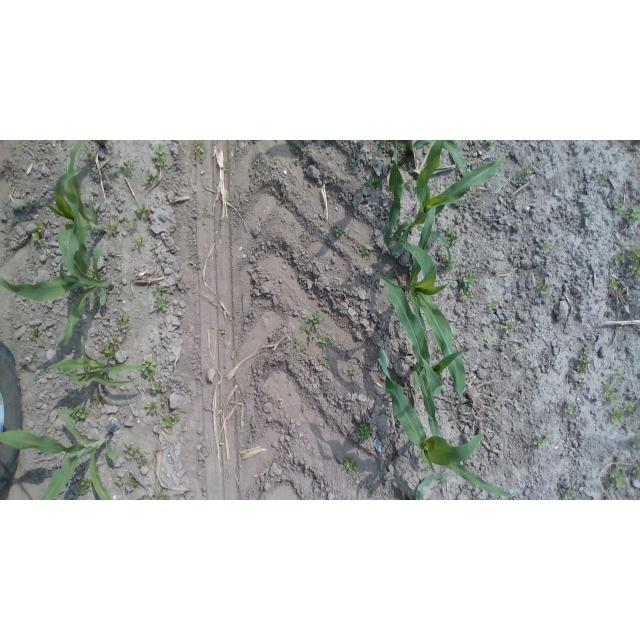Maize: (376, 345, 518, 500), (378, 141, 505, 268), (378, 274, 471, 439), (395, 204, 468, 395), (0, 231, 112, 350), (0, 409, 116, 500), (44, 140, 105, 262), (33, 334, 140, 390), (395, 141, 469, 180)
Weeds: (123, 443, 148, 468), (151, 283, 169, 312), (610, 462, 629, 489), (626, 244, 640, 280), (151, 143, 169, 168), (599, 380, 619, 402), (355, 422, 373, 444), (104, 334, 120, 358), (69, 403, 88, 423), (141, 358, 158, 379), (32, 216, 44, 244), (576, 355, 594, 373), (136, 202, 153, 220), (139, 491, 172, 500), (609, 407, 627, 423), (79, 476, 92, 497), (343, 456, 359, 473), (121, 161, 138, 177), (459, 272, 476, 288), (162, 414, 180, 429), (442, 255, 457, 273), (192, 141, 206, 160), (309, 313, 324, 329), (117, 312, 132, 328), (104, 220, 118, 236), (627, 207, 640, 224), (445, 228, 458, 245), (366, 175, 380, 190), (611, 252, 625, 266), (532, 435, 547, 448), (127, 475, 140, 490), (502, 320, 514, 336), (144, 400, 160, 412), (151, 382, 168, 393), (28, 324, 39, 340), (535, 284, 549, 296), (133, 236, 145, 249), (521, 163, 534, 175), (564, 404, 576, 416), (145, 172, 156, 185), (609, 279, 622, 290), (458, 288, 469, 300), (360, 247, 373, 257), (92, 395, 105, 405), (624, 401, 636, 411), (106, 277, 122, 284), (334, 227, 344, 238), (128, 219, 138, 230), (488, 299, 499, 309), (631, 438, 640, 450), (632, 464, 640, 477), (563, 489, 573, 499), (322, 351, 332, 361), (301, 324, 312, 333), (484, 336, 495, 345), (542, 240, 550, 252), (406, 176, 415, 186), (294, 336, 303, 346), (92, 297, 100, 308), (319, 338, 328, 347), (614, 373, 624, 381), (369, 483, 377, 493), (160, 397, 168, 407), (486, 141, 497, 148), (425, 465, 437, 471), (437, 346, 443, 358), (88, 270, 96, 279), (116, 284, 124, 293), (106, 140, 115, 148), (84, 151, 93, 159), (24, 201, 34, 208), (416, 453, 424, 461), (348, 367, 356, 375), (601, 174, 608, 183), (458, 396, 465, 404), (615, 204, 622, 212), (66, 219, 75, 225), (584, 347, 591, 354), (221, 327, 228, 334), (40, 342, 47, 349), (114, 479, 122, 485), (69, 473, 76, 479), (272, 334, 280, 339), (96, 467, 100, 477), (489, 400, 494, 408), (439, 482, 445, 488), (310, 333, 316, 339), (44, 140, 53, 144), (409, 162, 414, 169), (185, 390, 192, 395), (577, 384, 583, 389), (354, 479, 360, 484), (512, 222, 517, 228), (326, 364, 331, 369), (427, 183, 431, 189), (475, 496, 481, 500), (320, 359, 324, 365), (304, 350, 309, 354), (436, 360, 441, 364), (188, 260, 192, 264)
